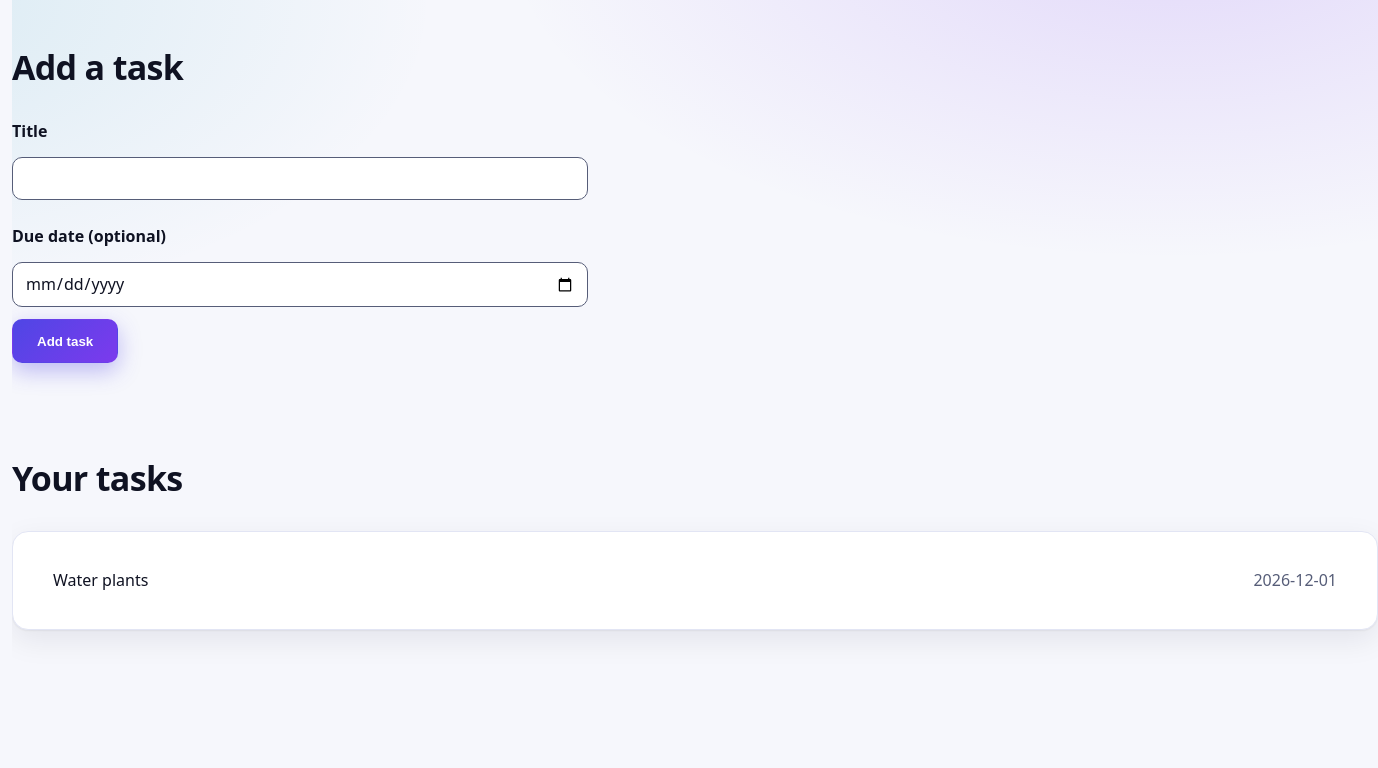
TaskBoard › AC-001.2 sends the trimmed title and date, appends the returned task and empties the form
The width and height of the screenshot is (1378, 768).
Type "  Buy milk  " into the field labelled "Title" at (300, 178), box [12, 157, 588, 200]
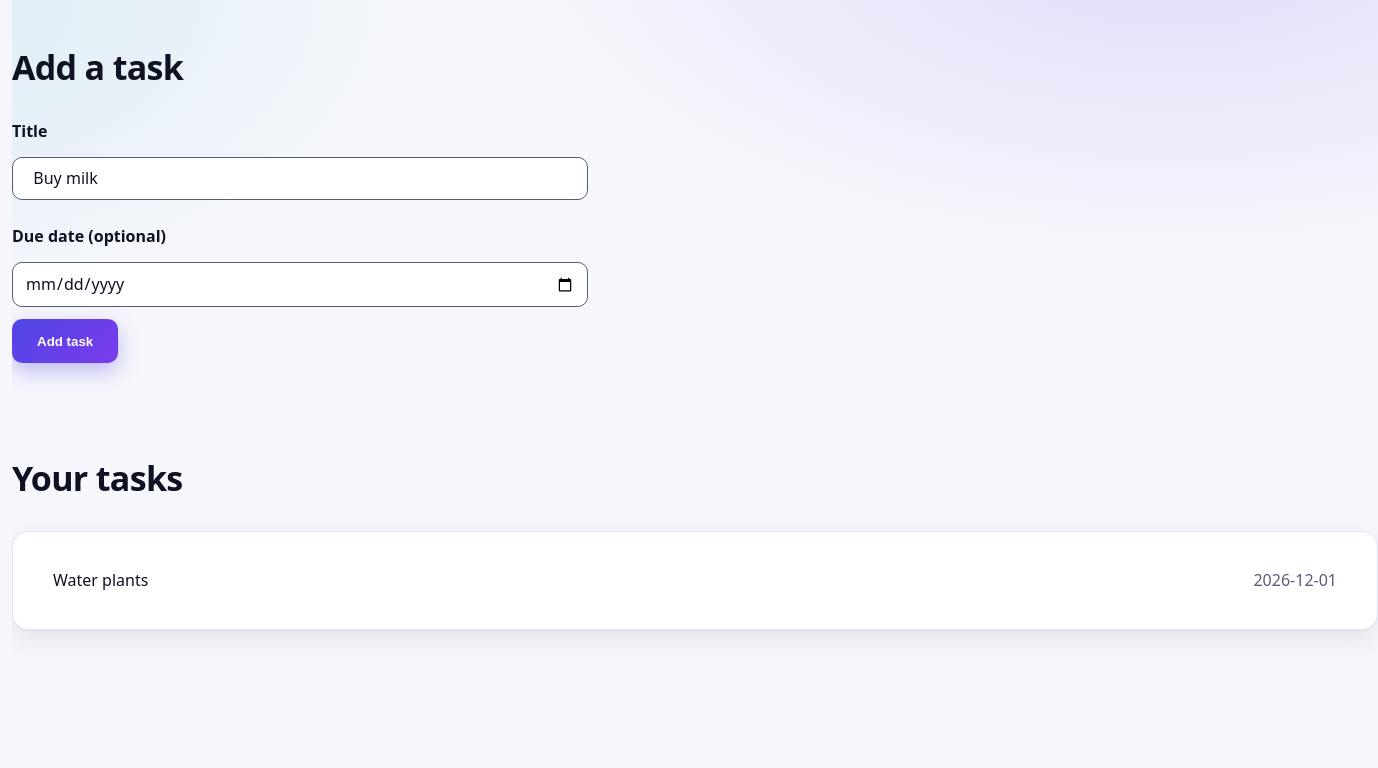
Type "2026-12-24" into the date field labelled "Due date (optional)" at (300, 285), box [12, 262, 588, 308]
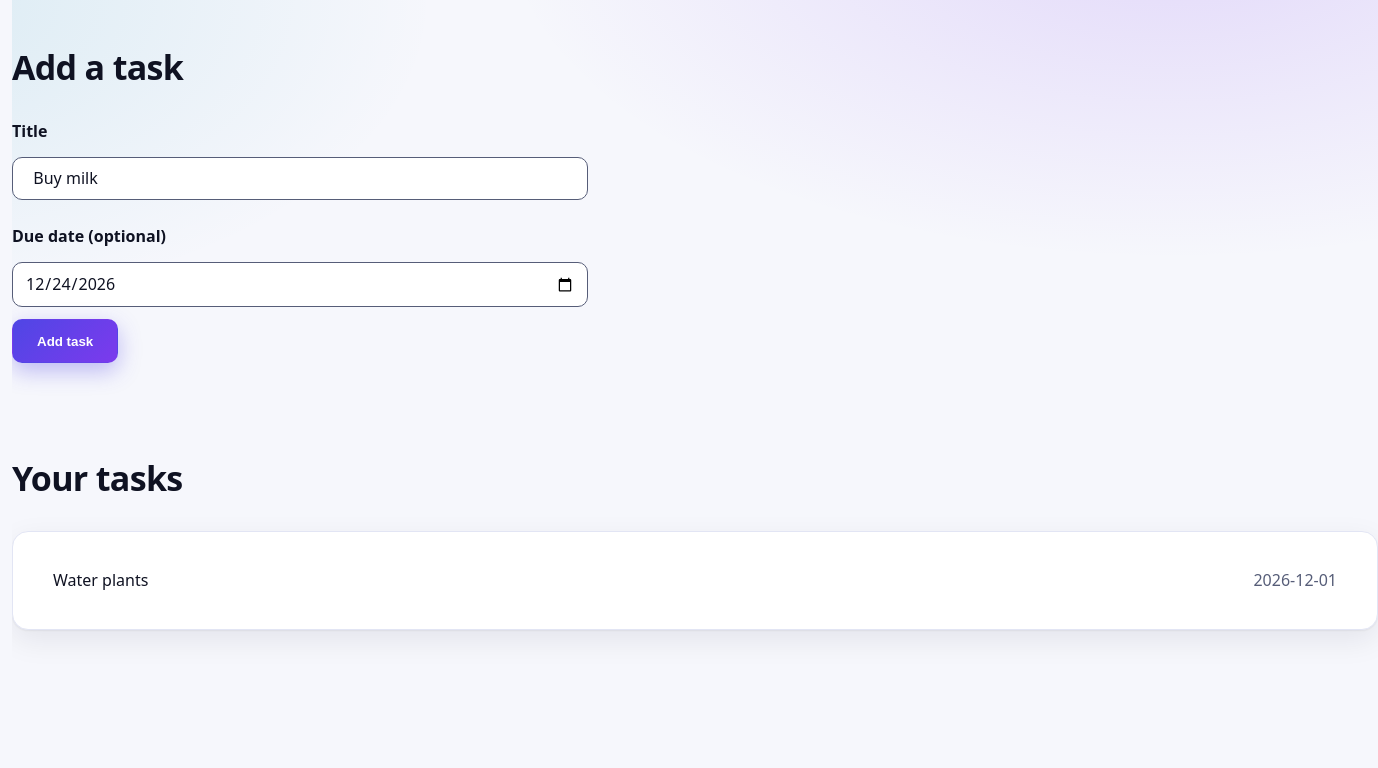
Click the button "Add task" at (65, 342), box [12, 320, 118, 364]
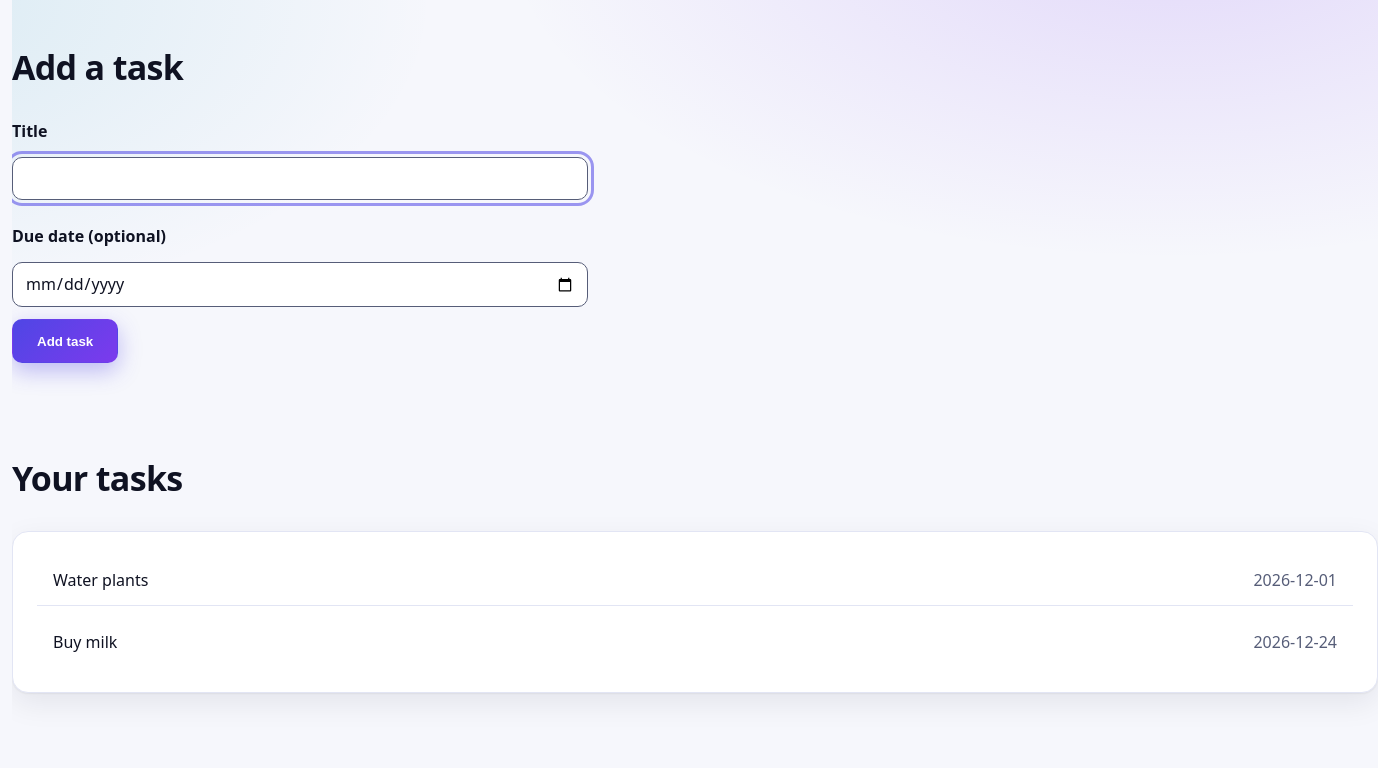
Check: the number of list items is 2, box [37, 556, 1353, 606]; [53, 631, 1337, 653]
Check: the text "Buy milk" is shown, box [53, 630, 117, 656]
Check: the text "2026-12-24" is shown, box [1254, 630, 1337, 656]
